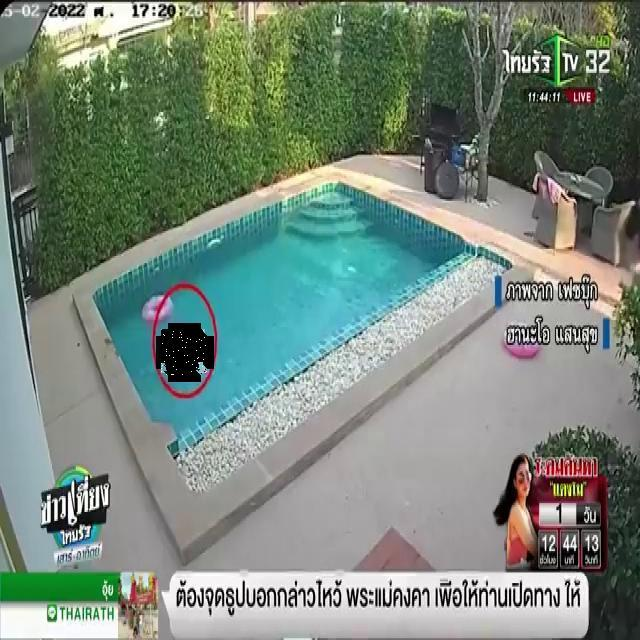Out of Water: (162, 330, 208, 376)
